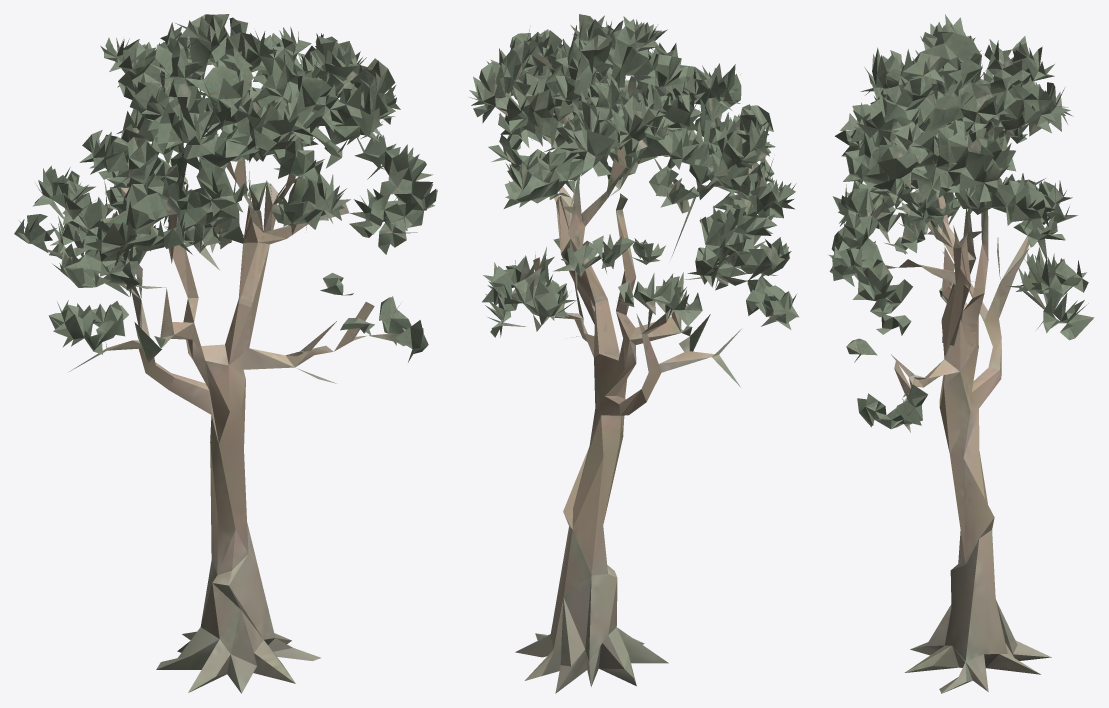
The model's file is gum.glb.
3 renders of one model, left to right at view 1: azimuth 30°, elevation 25°; view 2: azimuth 150°, elevation 25°; view 3: azimuth 270°, elevation 25°, orthographic. The views are drawn at different scales.
Bounding box in the file's own units: 1.06 × 1.89 × 0.7341.
1 material, 1 textured.
